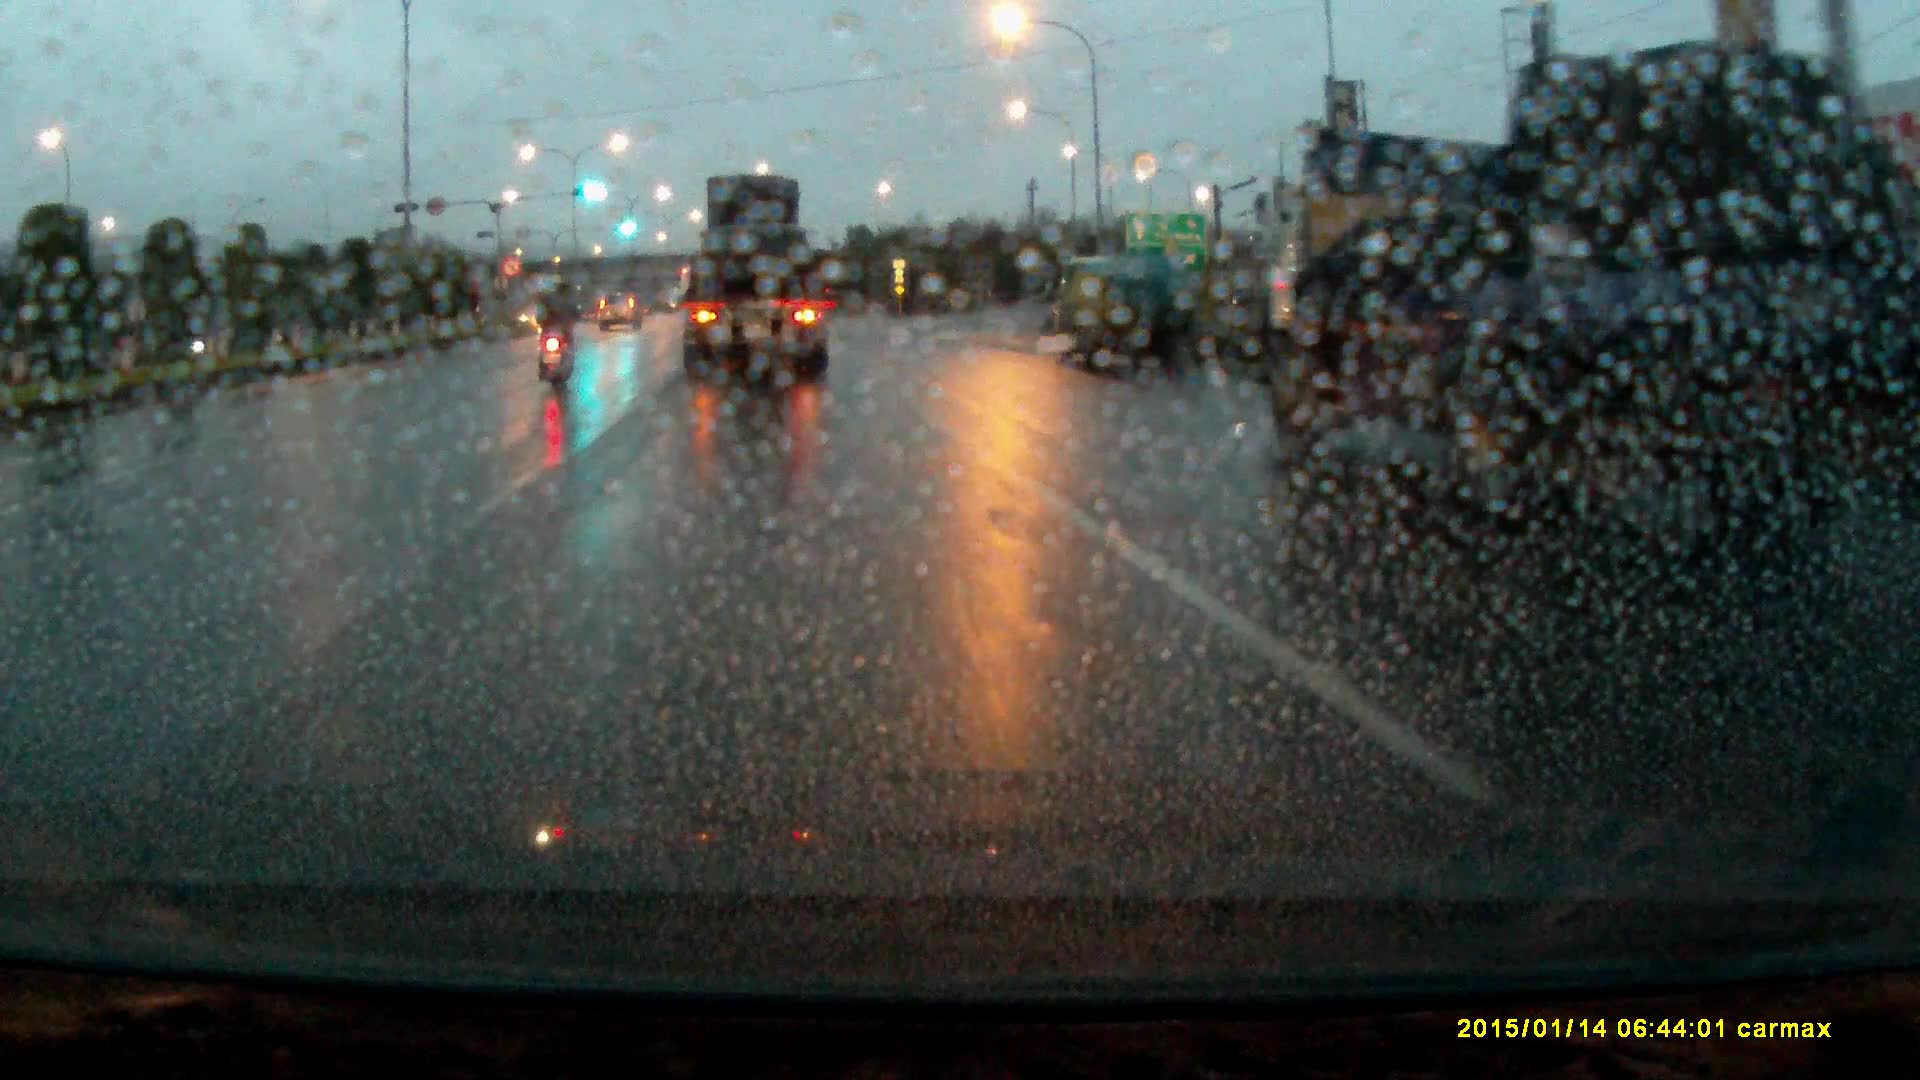rider: (533, 272, 585, 394)
vehicle: (1257, 84, 1900, 544), (674, 172, 833, 389), (1043, 258, 1205, 370), (600, 294, 645, 337)
